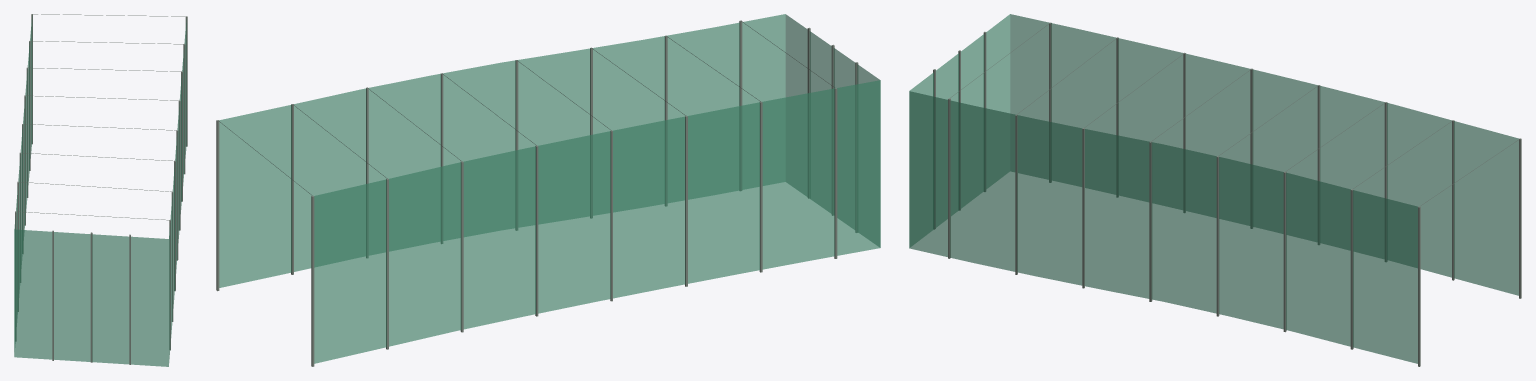
The picture shows the model from 3 angles, left to right: view 1: azimuth 30°, elevation 25°; view 2: azimuth 150°, elevation 25°; view 3: azimuth 270°, elevation 25°; orthographic projection. The views are drawn at different scales.
Parts seen in each view (by area): view 1: c15-mesh, c15-poles, c15-cables; view 2: c15-mesh, c15-poles, c15-cables; view 3: c15-mesh, c15-poles, c15-cables.
Part boxes in pixels (box(x1,y1,x2,y2)): c15-mesh: box(14, 16, 186, 366); c15-poles: box(15, 14, 187, 364); c15-cables: box(16, 14, 186, 220); c15-mesh: box(219, 14, 880, 363); c15-poles: box(216, 20, 858, 366); c15-cables: box(218, 21, 834, 195); c15-mesh: box(909, 14, 1518, 363); c15-poles: box(933, 22, 1521, 366); c15-cables: box(950, 23, 1519, 206).
Size of the model in its own units: 60.88 by 24.77 by 77.32.
